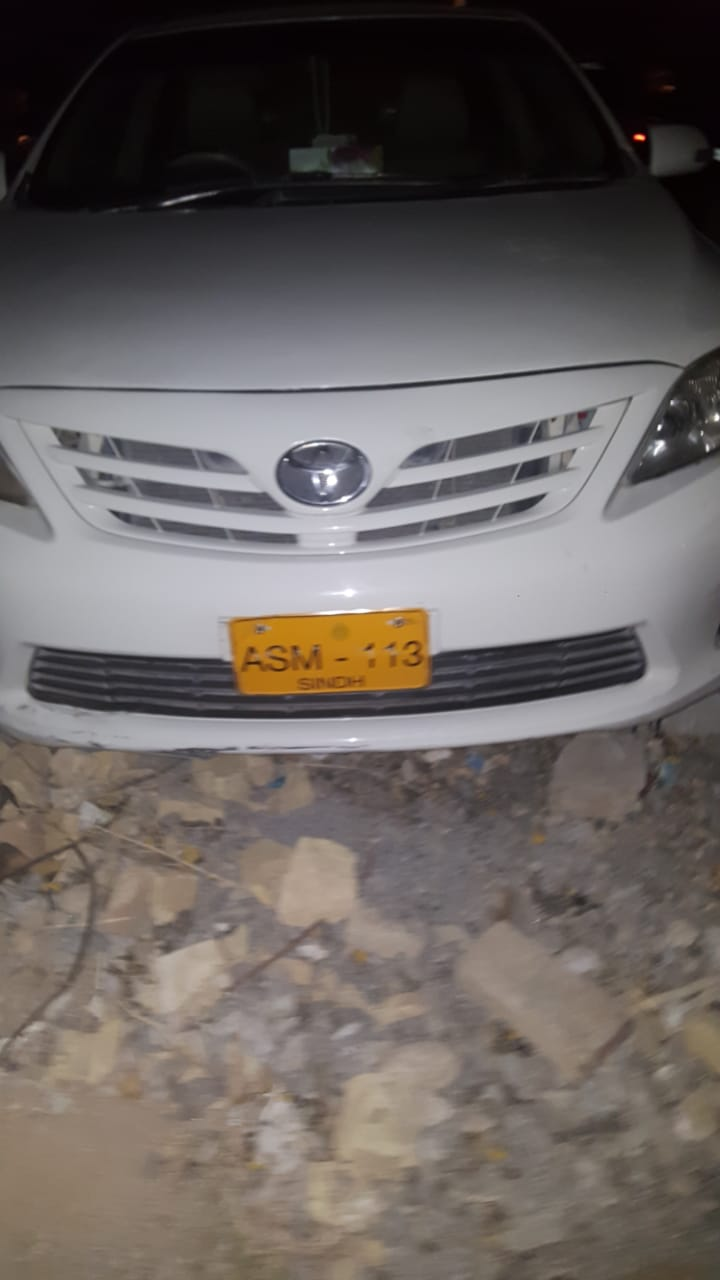license plate: (228, 617, 438, 696)
